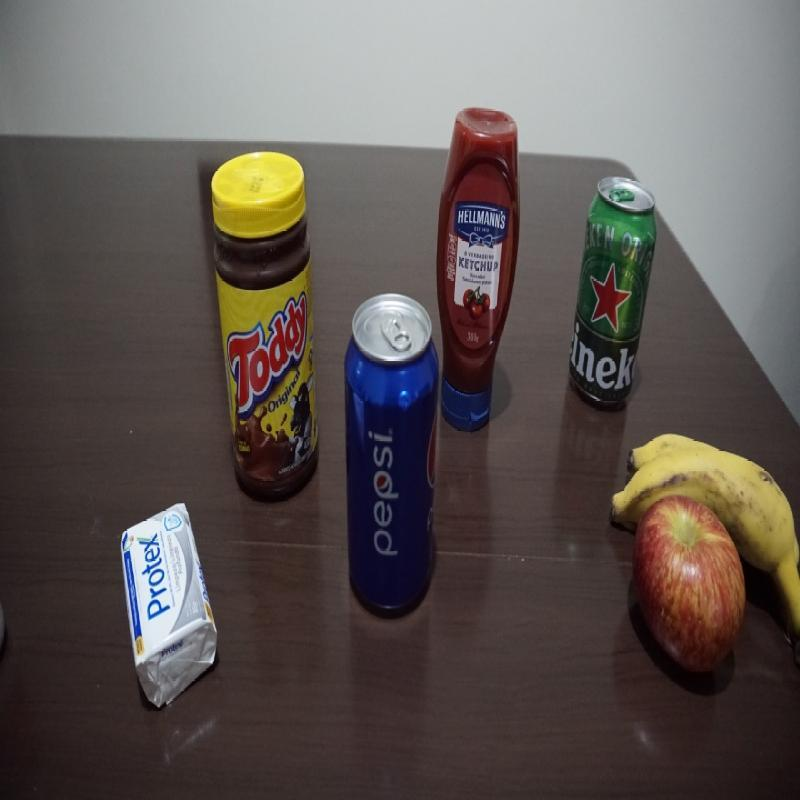Apple: (630, 513, 752, 684)
Banana: (600, 423, 793, 505)
Beer can: (565, 167, 658, 406)
Chocolate Powder: (208, 147, 324, 503)
Ketchup: (440, 112, 521, 426)
Soap: (117, 502, 220, 708)
Soda can: (340, 287, 440, 618)
